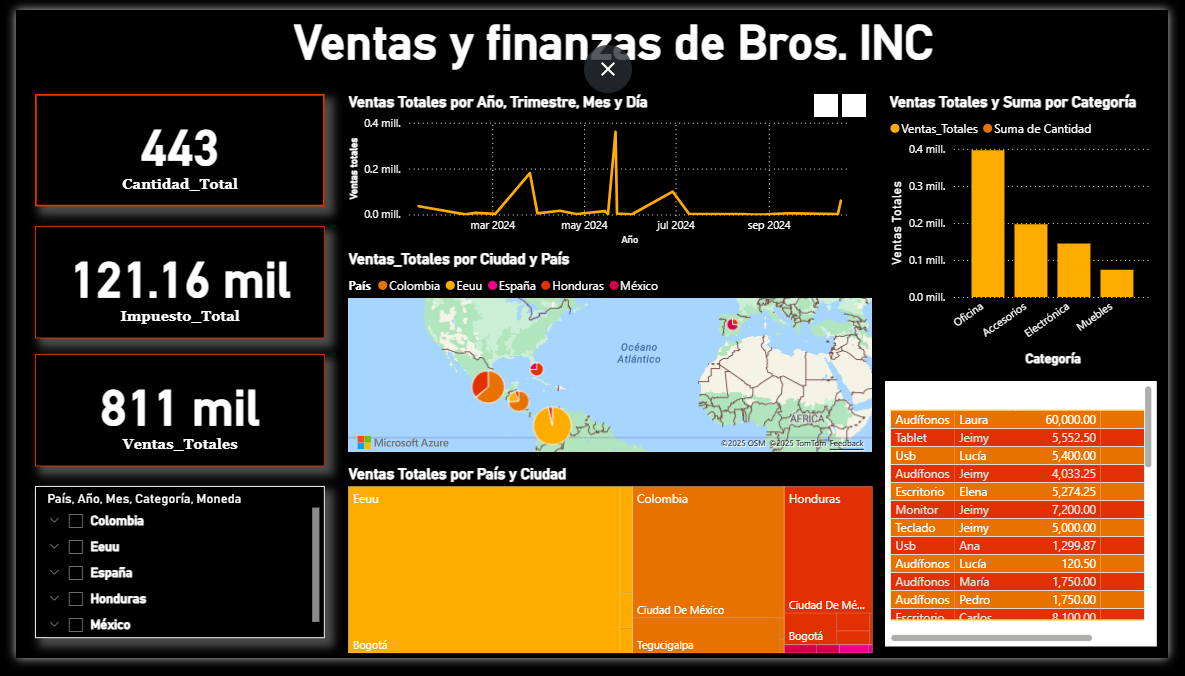

The dashboard page shown, as its layout file describes it:
{"tool":"powerbi","page":{"name":"Página 2","canvas":[1280,720],"ordinal":1},"visuals":[{"type":"columnChart","title":"Ventas Totales y Suma por Categoría","fields":{"Category":["Ventas.Categoría"],"Y":["Ventas.Ventas_Totales","Sum(Ventas.Cantidad)"]},"box":[966.7,69.4,313.7,328.6],"z":0},{"type":"lineChart","title":"Ventas Totales por Año, Trimestre, Mes y Día","fields":{"Category":["Ventas.Fecha_Venta.Variación.Jerarquía de fechas.Año","Ventas.Fecha_Venta.Variación.Jerarquía de fechas.Trimestre","Ventas.Fecha_Venta.Variación.Jerarquía de fechas.Mes","Ventas.Fecha_Venta.Variación.Jerarquía de fechas.Día"],"Y":["Ventas.Ventas_Totales"]},"box":[364.9,98.2,578.3,173.9],"z":1000},{"type":"map","fields":{"Series":["Ventas.País"],"Size":["Ventas.Ventas_Totales"],"Category":["Ventas.Ciudad"]},"box":[364.9,272.1,591.1,265.7],"z":2000},{"type":"treemap","title":"Ventas Totales por País y Ciudad","fields":{"Group":["Ventas.País"],"Details":["Ventas.Ciudad"],"Values":["Ventas.Ventas_Totales"]},"box":[364.9,537.8,591.1,182.5],"z":3000},{"type":"tableEx","fields":{"Values":["Ventas.Producto","Ventas.Vendedor","Sum(Ventas.Total)","Sum(Ventas.Impuesto)"]},"box":[966.2,397.9,313.8,322.1],"z":4000},{"type":"slicer","fields":{"Values":["Ventas.País","Ventas.Fecha_Venta.Variación.Jerarquía de fechas.Año","Ventas.Fecha_Venta.Variación.Jerarquía de fechas.Mes","Ventas.Categoría","Ventas.Moneda"]},"box":[37.3,503.6,283.8,176.1],"z":5000},{"type":"textbox","box":[336.3,0,728.4,79.3],"z":6000},{"type":"card","fields":{"Values":["Ventas.Ventas_Totales"]},"box":[37.3,351,283.8,135.5],"z":7000},{"type":"card","fields":{"Values":["Ventas.Impuesto_Total"]},"box":[37.3,204.9,283.8,135.5],"z":8000},{"type":"card","fields":{"Values":["Ventas.Cantidad_Total"]},"box":[37.3,58.7,283.8,135.5],"z":9000}]}

Visuals, with their boxes in screenshot pixels (x1, y1, x2, y2), scaled from the page's 1280x720 canvas onto the 1185x676 screenshot:
"Ventas Totales y Suma por Categoría" columnChart: left=895, top=65, right=1184, bottom=374
"Ventas Totales por Año, Trimestre, Mes y Día" lineChart: left=338, top=92, right=873, bottom=255
map - Ventas.País x Ventas.Ventas_Totales: left=338, top=255, right=885, bottom=505
"Ventas Totales por País y Ciudad" treemap: left=338, top=505, right=885, bottom=675
tableEx - Ventas.Producto x Ventas.Vendedor: left=894, top=374, right=1184, bottom=675
slicer - Ventas.País x Ventas.Fecha_Venta.Variación.Jerarquía de fechas.Año: left=35, top=473, right=297, bottom=638
textbox: left=311, top=0, right=986, bottom=74
card - Ventas.Ventas_Totales: left=35, top=330, right=297, bottom=457
card - Ventas.Impuesto_Total: left=35, top=192, right=297, bottom=320
card - Ventas.Cantidad_Total: left=35, top=55, right=297, bottom=182
